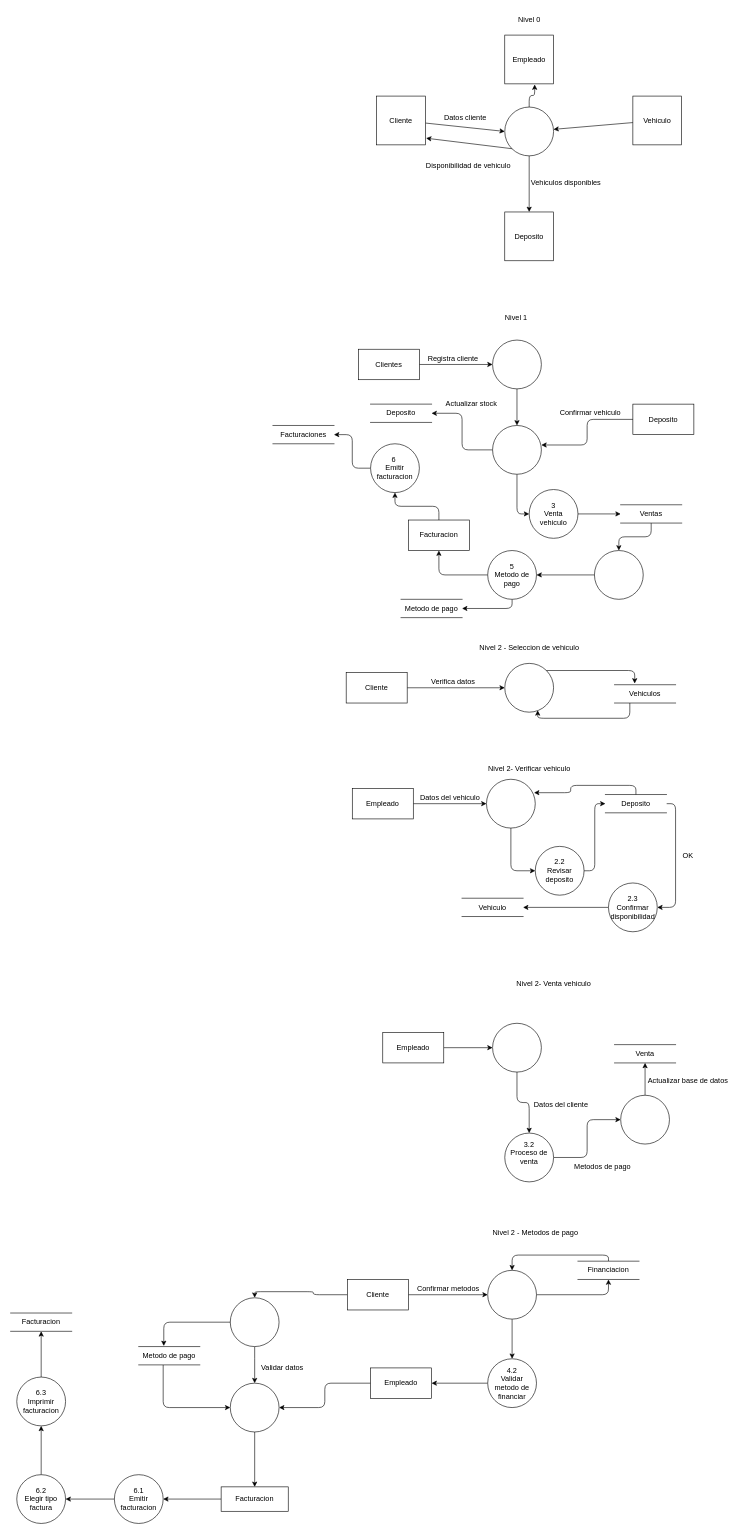
This 744x1534 diagram has some shape labels left out. Here are the shapes that lost their labels. From the top down, the centre of each, then its label:
At pixel 529 131: "Compra".
At pixel 516 364: "1 Compra vehiculo".
At pixel 516 449: "2 Disponibilidad vehiculo".
At pixel 618 574: "4 Realiza financiacion".
At pixel 529 687: "1.1 Seleccionar vehiculo".
At pixel 510 803: "2.1 Verificar vehiculo".
At pixel 516 1047: "3.1 Vender vehiculo".
At pixel 644 1119: "3.3 Finalizar venta".
At pixel 511 1294: "4.1 Selecciona forma de financiacion".
At pixel 254 1322: "5.1 Elegir metodo de pago".
At pixel 254 1407: "5.2 Procesar metodo pago".
